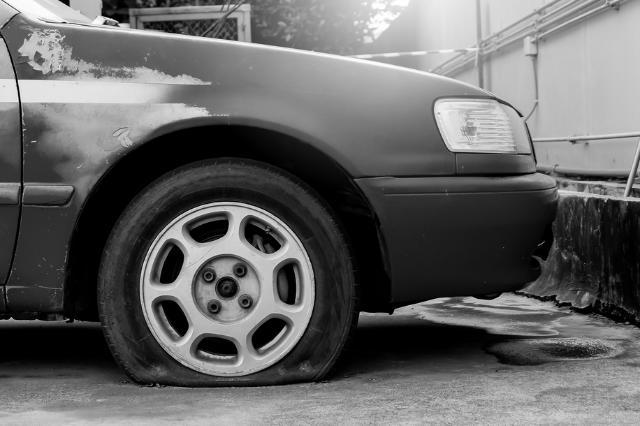Fender: (7, 15, 221, 157), (12, 169, 83, 323)
